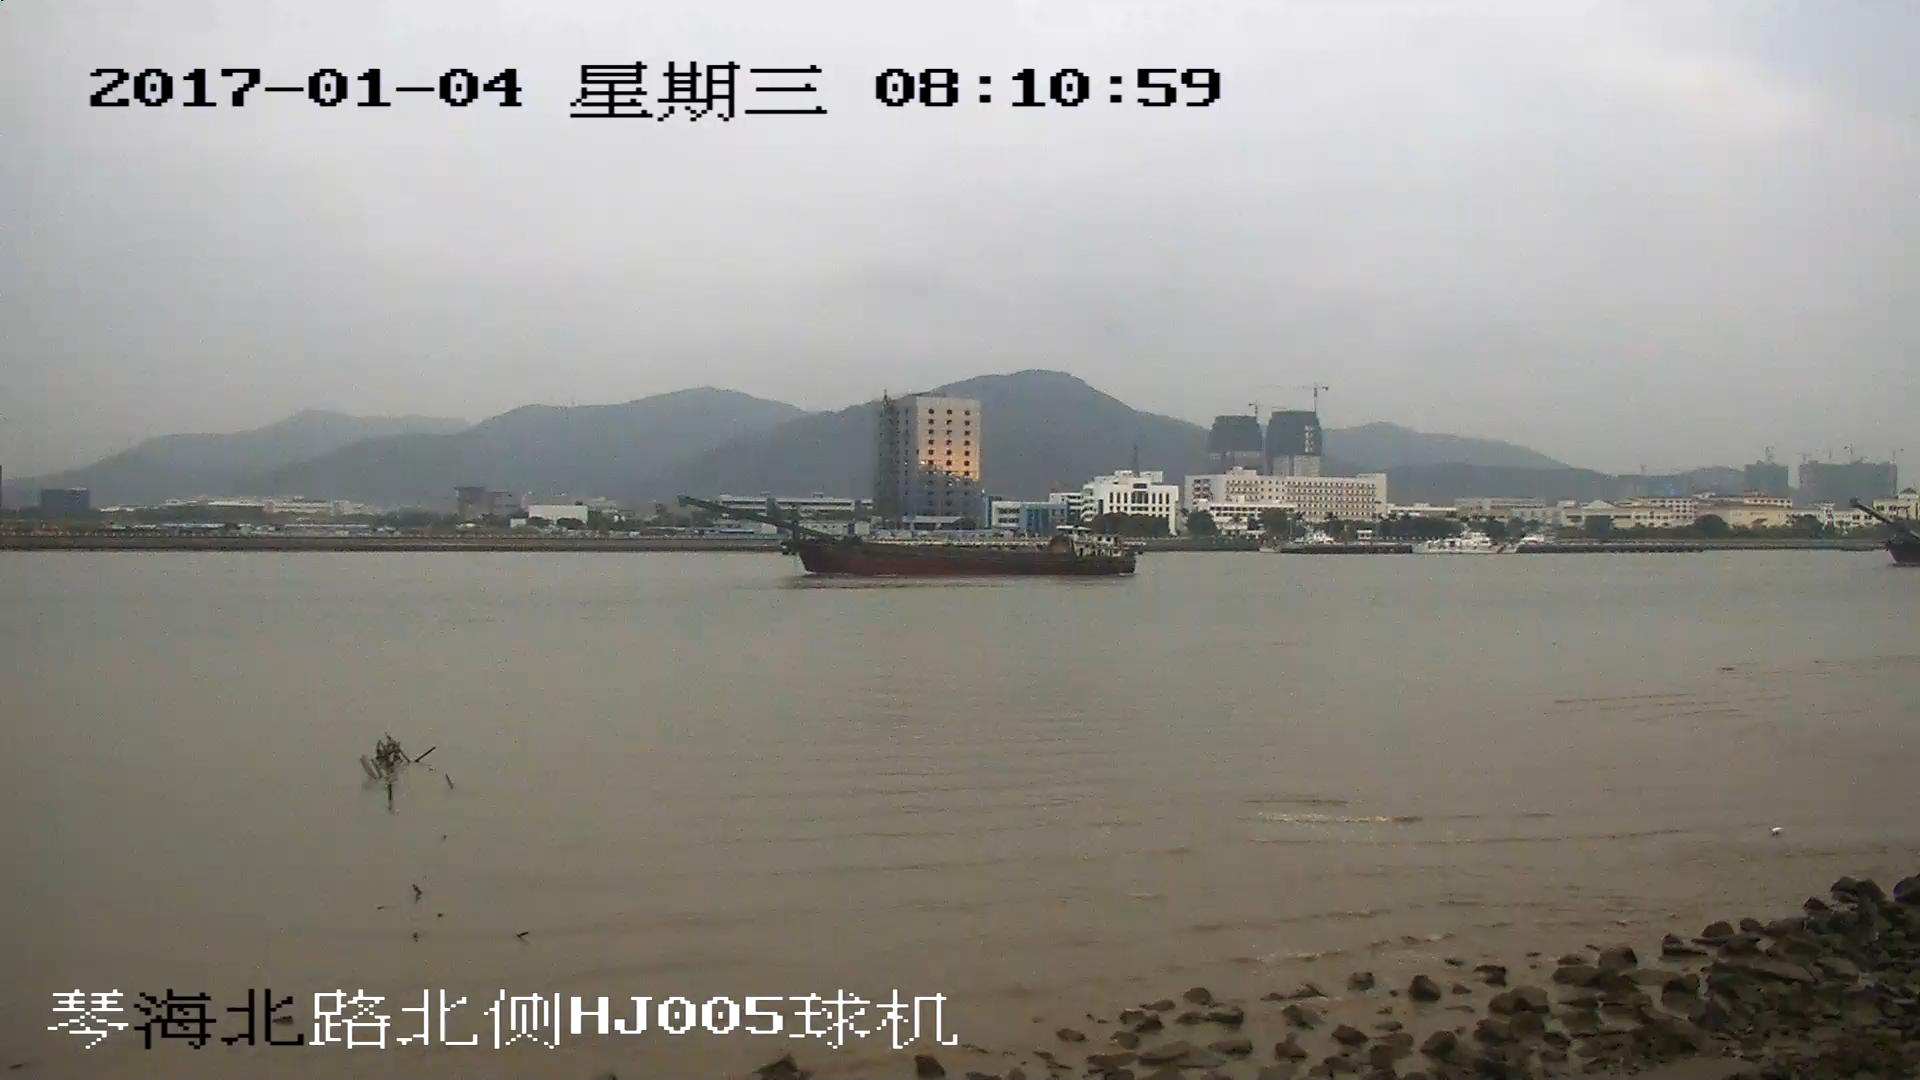bulk cargo carrier: (682, 500, 1134, 573)
